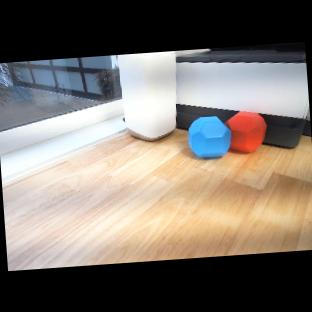V5_BLUE: (185, 114, 233, 165)
V5_RED: (230, 110, 268, 153)
